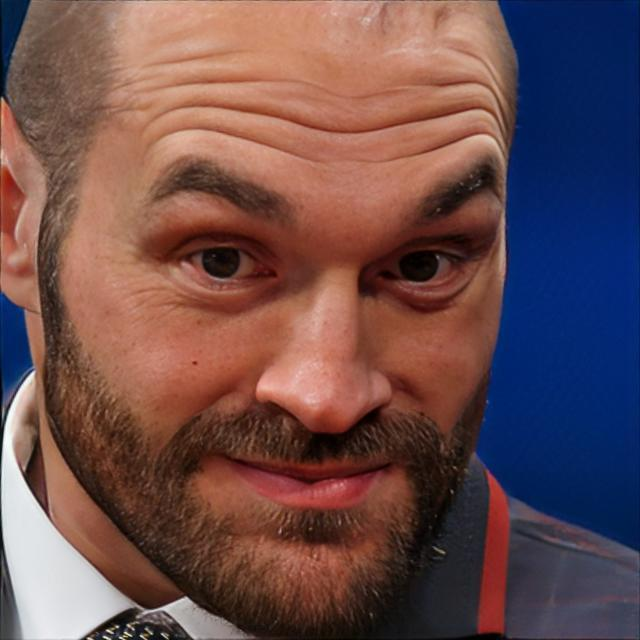surprise: (28, 0, 508, 640)
